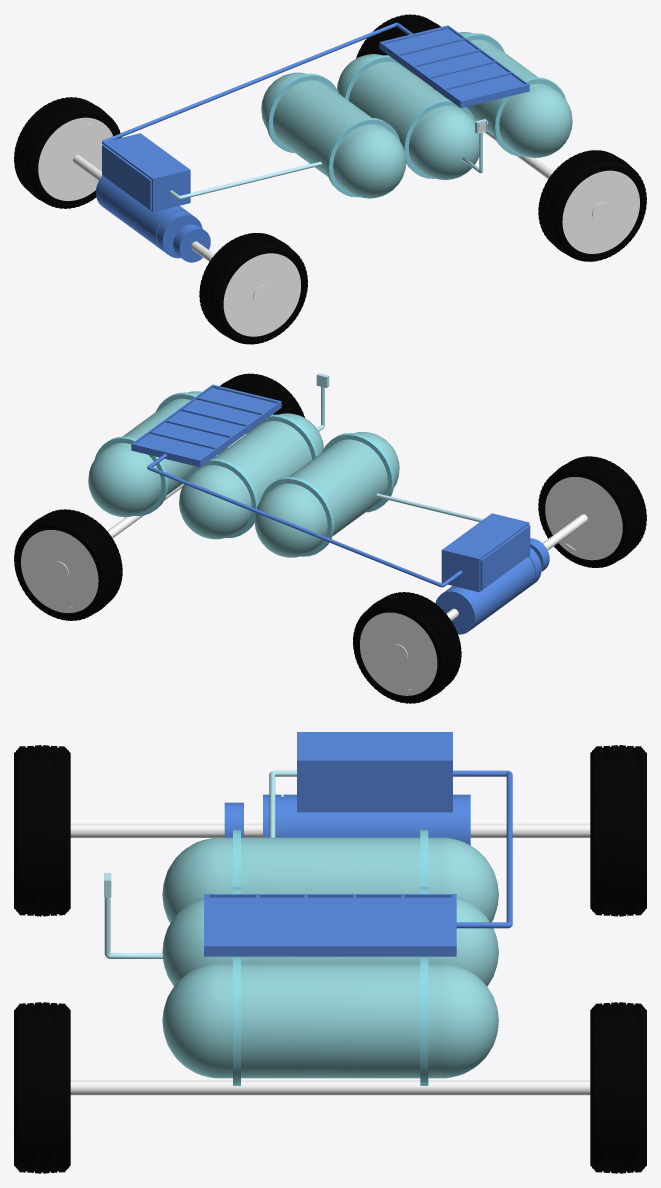
The model's file is topic_1_#3.fbx.
3 renders of one model, top to bottom at view 1: azimuth 30°, elevation 25°; view 2: azimuth 150°, elevation 25°; view 3: azimuth 270°, elevation 25°, orthographic. The views are drawn at different scales.
Parts seen in each view (by area): view 1: h1, tire_4, tire_2, h_2, tire_3, pipe_2, h_3, system, motor, Cylinder_1, Cylinder_2, tire_1 (+4 smaller); view 2: h1, tire_3, tire_1, tire_4, h_2, pipe_2, h_3, system, motor, Cylinder_1, tire_2, Cylinder_2 (+3 smaller); view 3: h_3, h1, pipe_2, system, tire_1, tire_2, tire_3, tire_4, bar, h_2, motor, bar_2 (+4 smaller).
Boxes of the visible parts, x1,y1,x2,y2 form: h1: (261, 72, 406, 198); tire_4: (199, 233, 307, 344); tire_2: (538, 150, 646, 261); h_2: (337, 54, 479, 179); tire_3: (14, 97, 121, 208); pipe_2: (102, 22, 529, 143); h_3: (442, 32, 572, 157); system: (102, 133, 190, 212); motor: (95, 175, 202, 258); Cylinder_1: (266, 73, 400, 197); Cylinder_2: (342, 55, 475, 178); tire_1: (356, 14, 440, 58); h1: (254, 432, 399, 557); tire_3: (353, 592, 461, 703); tire_1: (14, 509, 122, 620); tire_4: (538, 456, 646, 567); h_2: (179, 413, 323, 539); pipe_2: (131, 384, 462, 587); h_3: (88, 391, 218, 517); system: (441, 513, 530, 592); motor: (435, 547, 541, 634); Cylinder_1: (260, 433, 394, 556); tire_2: (220, 373, 304, 417); Cylinder_2: (185, 414, 318, 538); h_3: (162, 963, 498, 1078); h1: (162, 837, 498, 923); pipe_2: (204, 770, 512, 956); system: (297, 732, 452, 812); tire_1: (590, 1002, 646, 1173); tire_2: (14, 1002, 70, 1173); tire_3: (590, 745, 646, 916); tire_4: (14, 745, 70, 916); bar: (70, 1080, 590, 1095); h_2: (162, 897, 498, 986); motor: (263, 794, 470, 845); bar_2: (70, 823, 590, 837).
Size of the model in its own units: 782 by 244 by 634.
